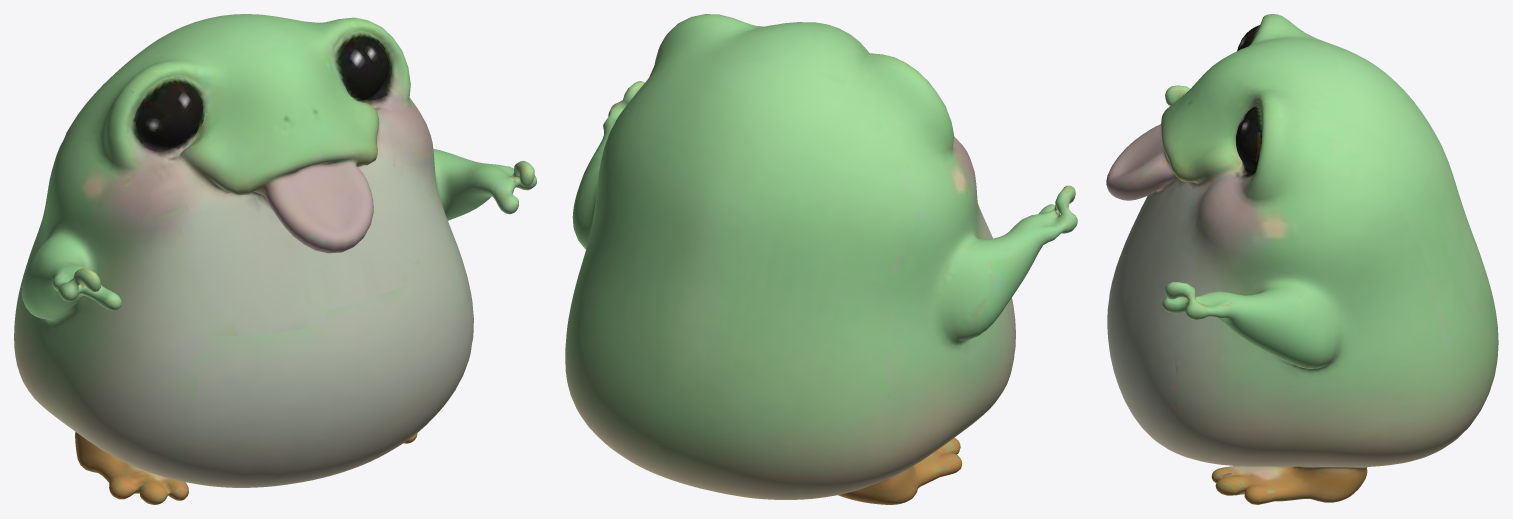
Rendered from cute-round-frog.lod.glb.
3 views of the same model, side by side, from view 1: azimuth 30°, elevation 25°; view 2: azimuth 150°, elevation 25°; view 3: azimuth 270°, elevation 25° (orthographic). The views are drawn at different scales.
Parts seen in each view (by area): view 1: model__0; view 2: model__0; view 3: model__0.
Boxes of the visible parts, x1,y1,x2,y2 form: model__0: [14, 14, 536, 504]; model__0: [565, 14, 1077, 504]; model__0: [1106, 14, 1498, 504].
Bounding box in the file's own units: 1.9 × 1.64 × 1.48.
Materials: 1 (1 with a texture image).
